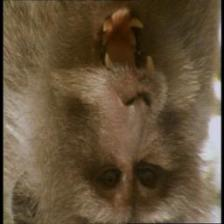monkey: (46, 14, 191, 213)
